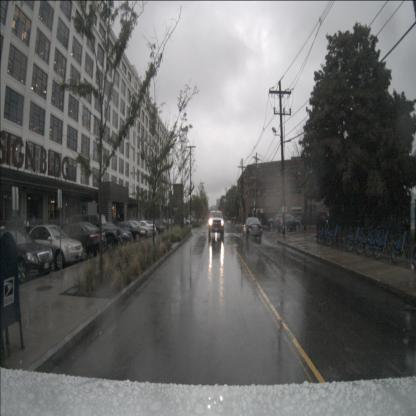human-pedestrian-adult: (31, 216, 36, 232)
vehicle-car: (0, 224, 54, 285), (19, 224, 84, 271), (68, 213, 123, 251), (59, 221, 107, 256), (92, 220, 133, 248), (113, 221, 148, 243), (122, 220, 152, 240), (243, 217, 263, 240), (276, 214, 300, 232), (208, 211, 224, 237), (144, 219, 165, 237), (136, 220, 157, 236), (267, 214, 290, 228), (179, 216, 190, 226), (233, 211, 241, 224)
